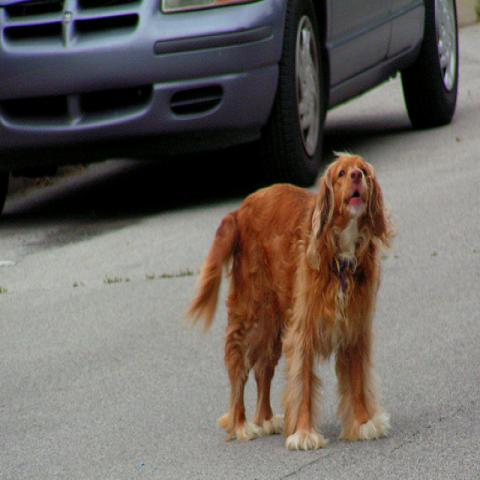car: (2, 1, 458, 213)
